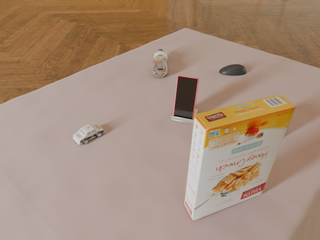bottle: (153, 49, 168, 77)
box: (185, 95, 296, 220)
mouse: (219, 64, 246, 75)
phone: (173, 75, 199, 119)
toy_car: (73, 124, 104, 145)
